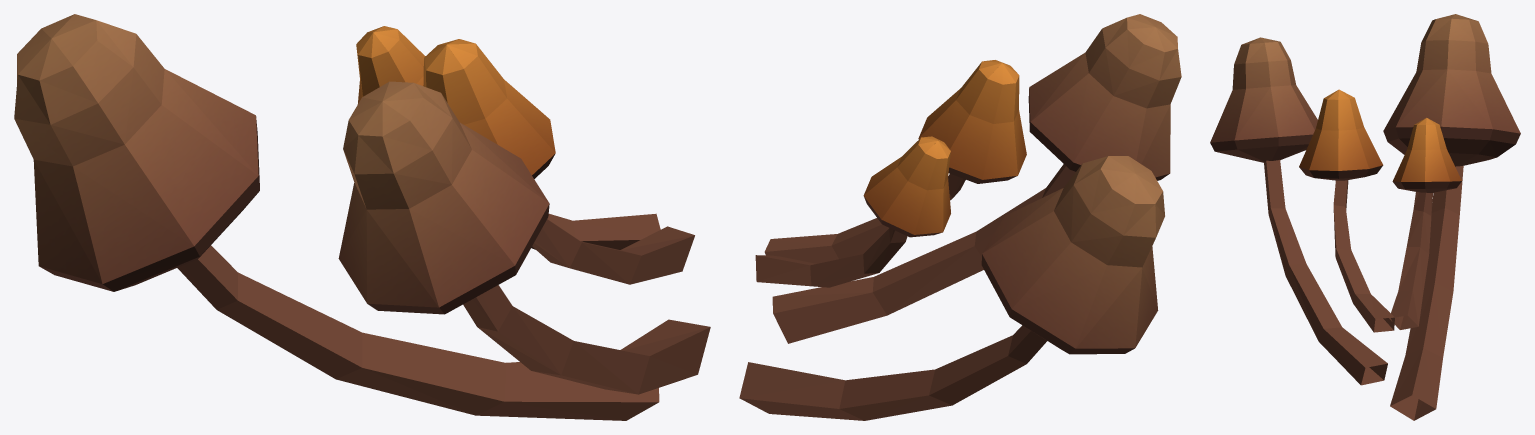
The model's file is ZLP_Mushroom_A_1.FBX.
3 views of the same model, side by side, from view 1: azimuth 30°, elevation 25°; view 2: azimuth 150°, elevation 25°; view 3: azimuth 270°, elevation 25° (orthographic). The views are drawn at different scales.
Visible parts, largest first — view 1: ZLP_Mushroom_A_1; view 2: ZLP_Mushroom_A_1; view 3: ZLP_Mushroom_A_1.
Part boxes in pixels (<box>): ZLP_Mushroom_A_1: <box>14,14,710,420</box>; ZLP_Mushroom_A_1: <box>739,14,1181,420</box>; ZLP_Mushroom_A_1: <box>1210,14,1520,420</box>.
Bounding box in the file's own units: 77.09 × 63.35 × 62.56.
